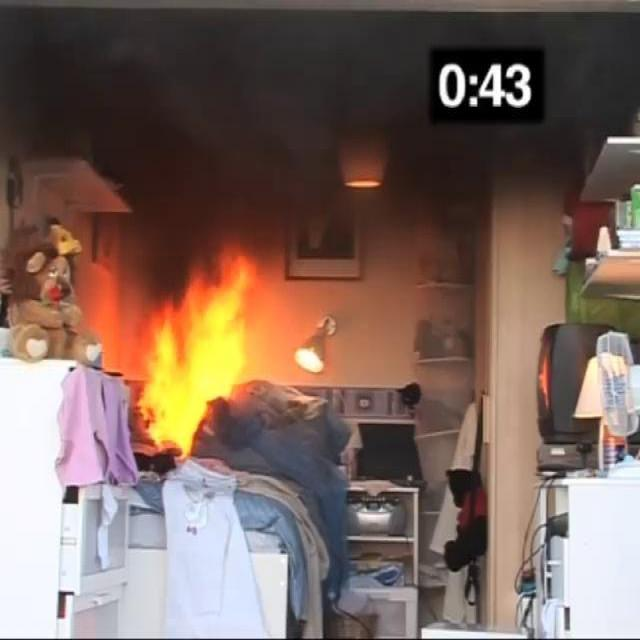fire: (142, 258, 272, 449)
smoke: (41, 32, 362, 238)
